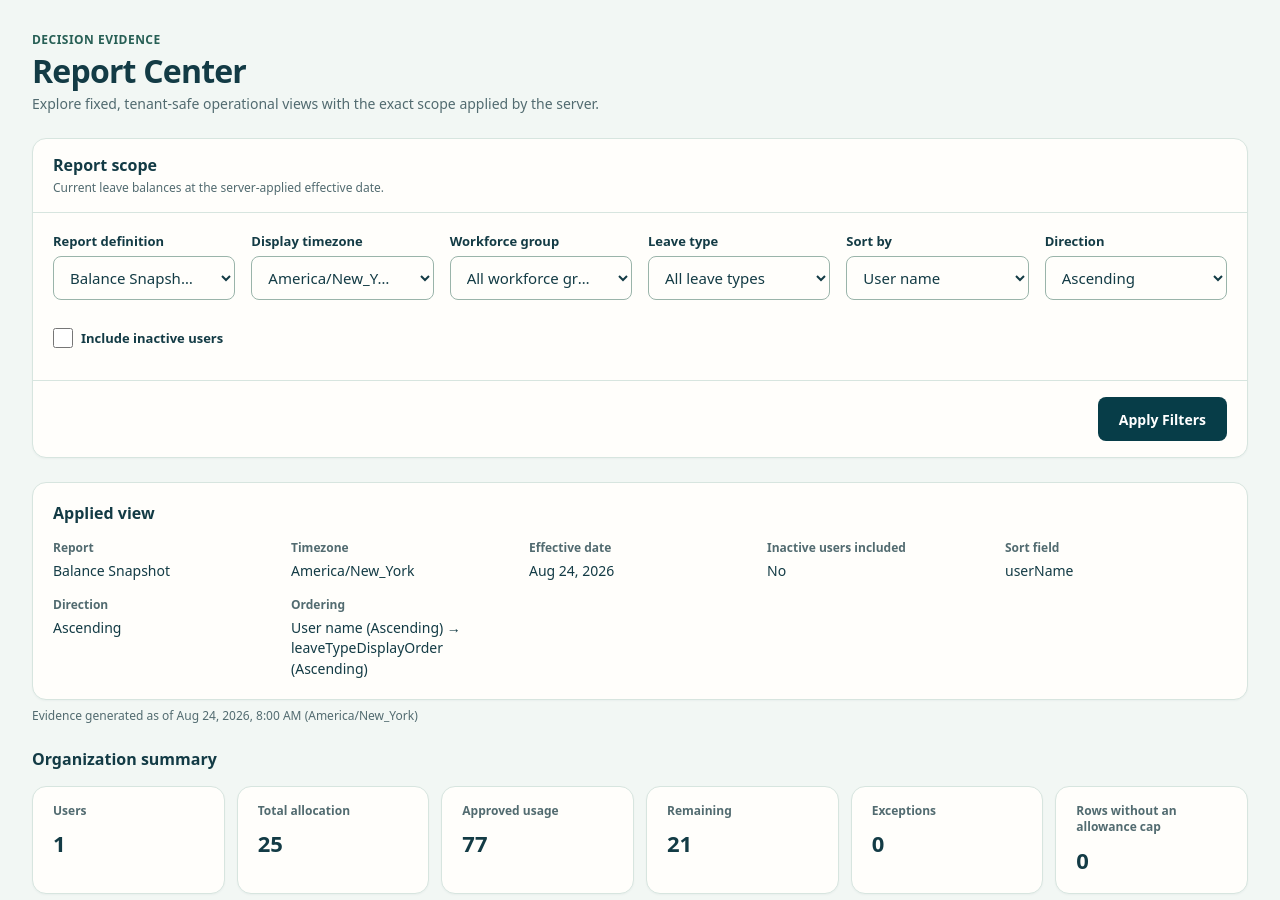
Test: ReportCenterPage › [P0] rejects an inverted date range before it costs a round trip
Select "Leave Usage" in the dropdown labelled "Report definition". click: [144, 278]
box: [53,256,235,300]
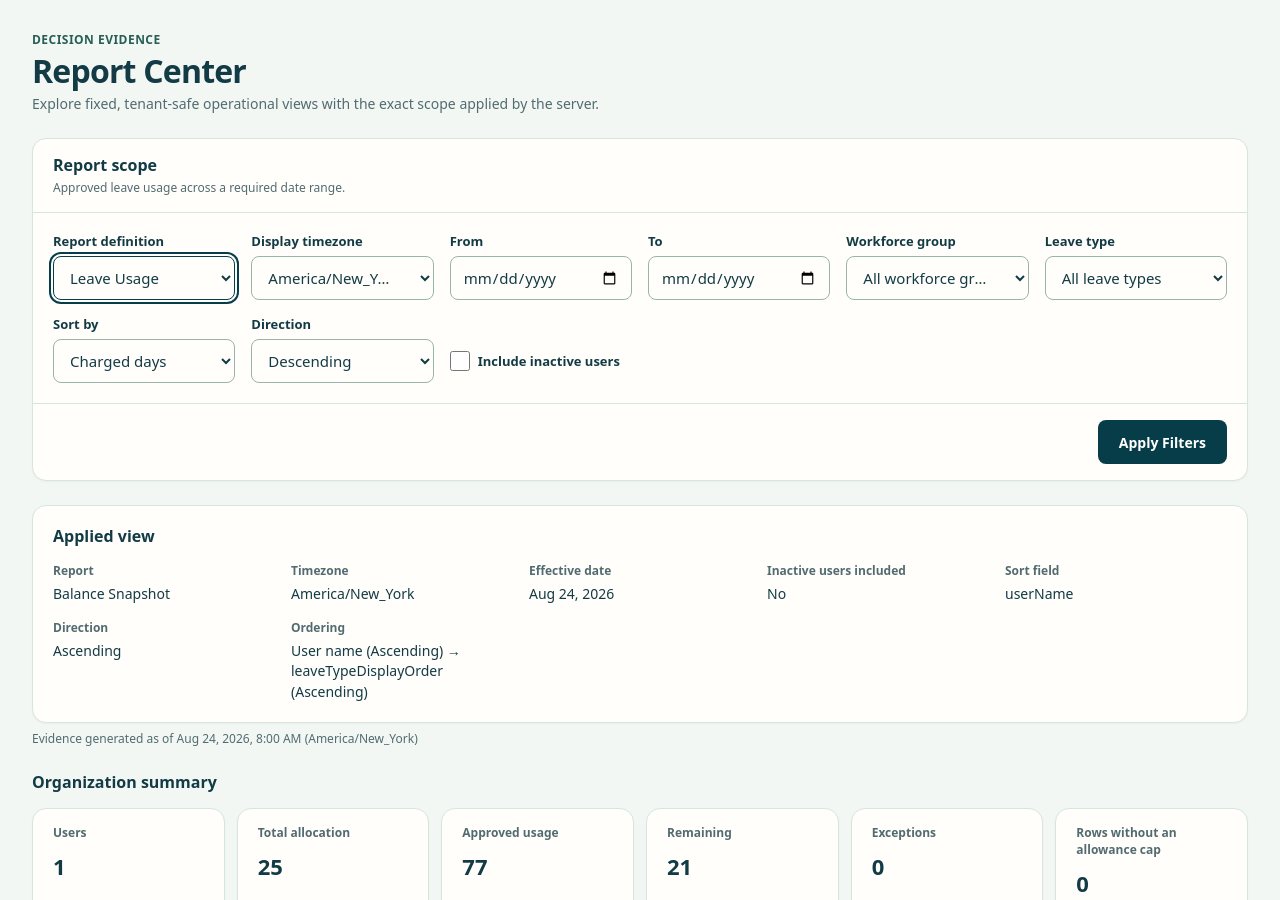
Type "2026-08-24" into the date field labelled "From". click: [541, 278]
box: [450,256,632,300]
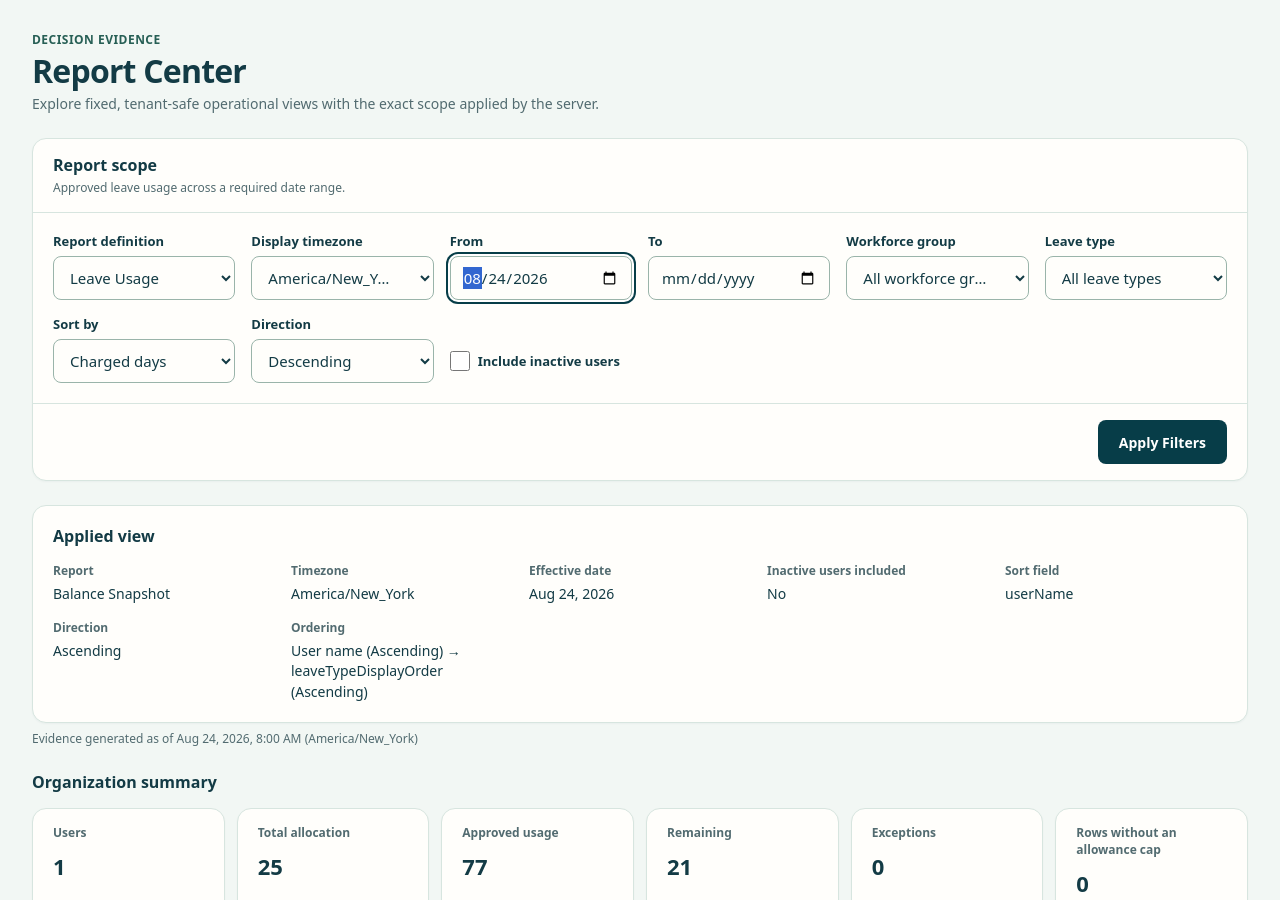
Type "2026-08-01" into the date field labelled "To". click: [739, 278]
box: [648,256,830,300]
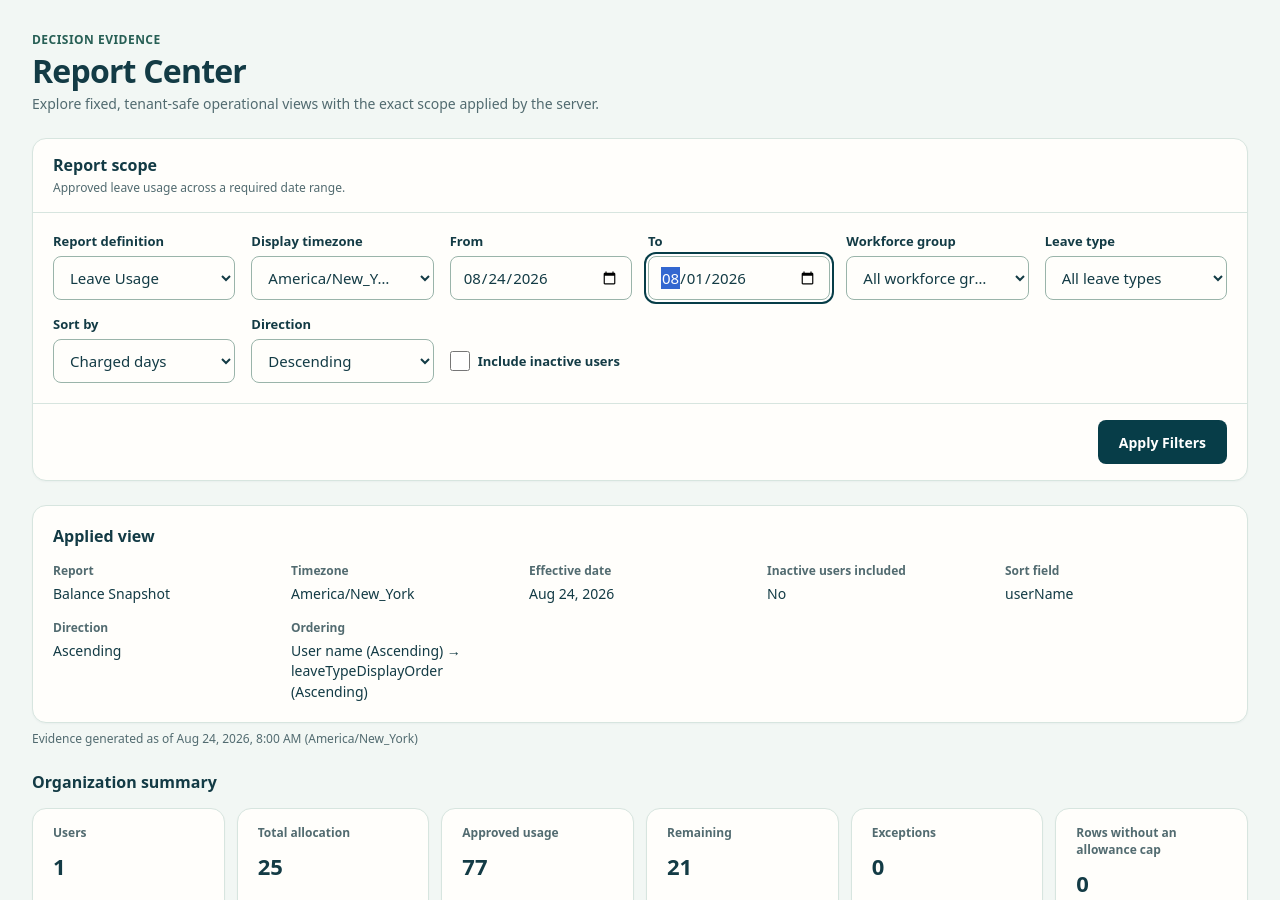
Click the button "Apply Filters". click: [1162, 442]
box: [1098,420,1227,464]
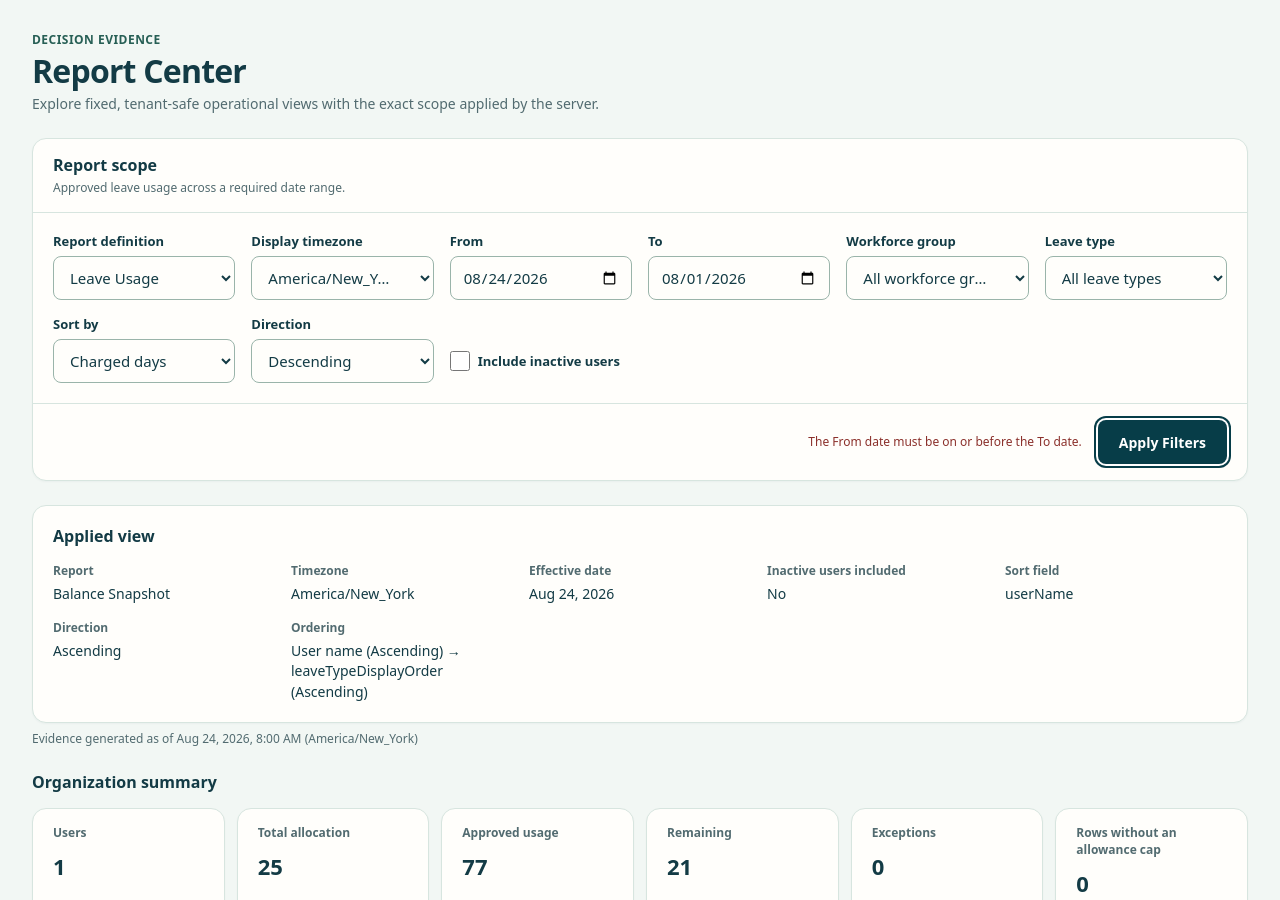
Expected: the text "The From date must be on or before the To date." is shown, [808,433,1082,451]
